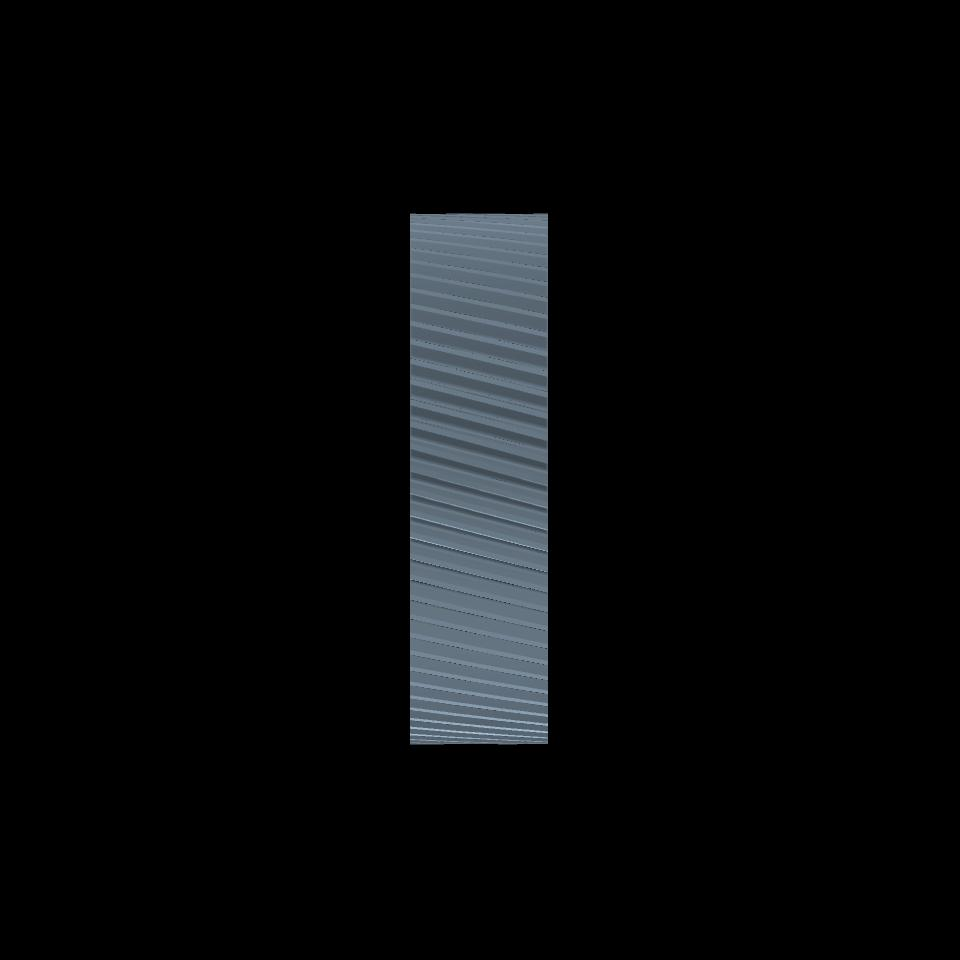Helical: (410, 213, 547, 743)
